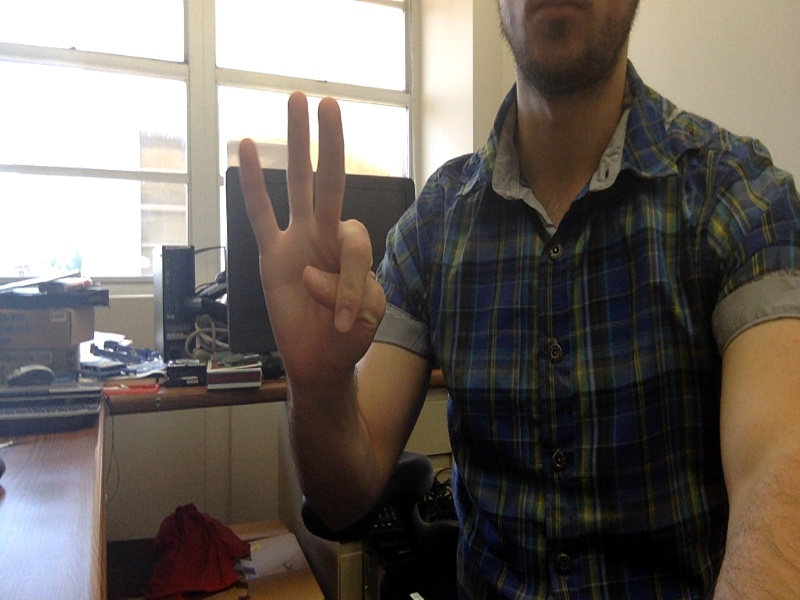3-hand: (233, 91, 391, 377)
